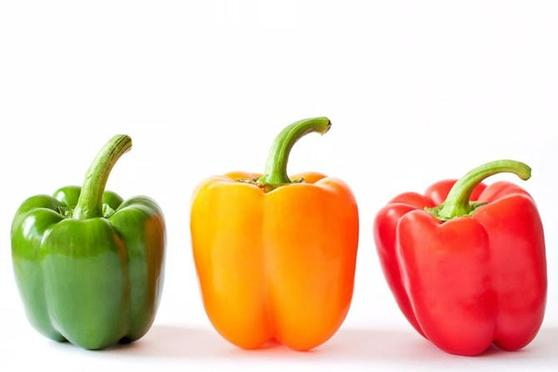pepper: (370, 165, 554, 357)
